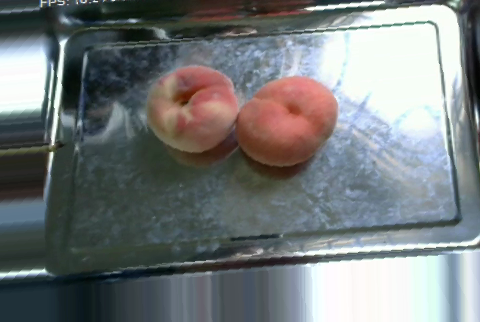Peach: (236, 75, 340, 167), (146, 64, 239, 153)
